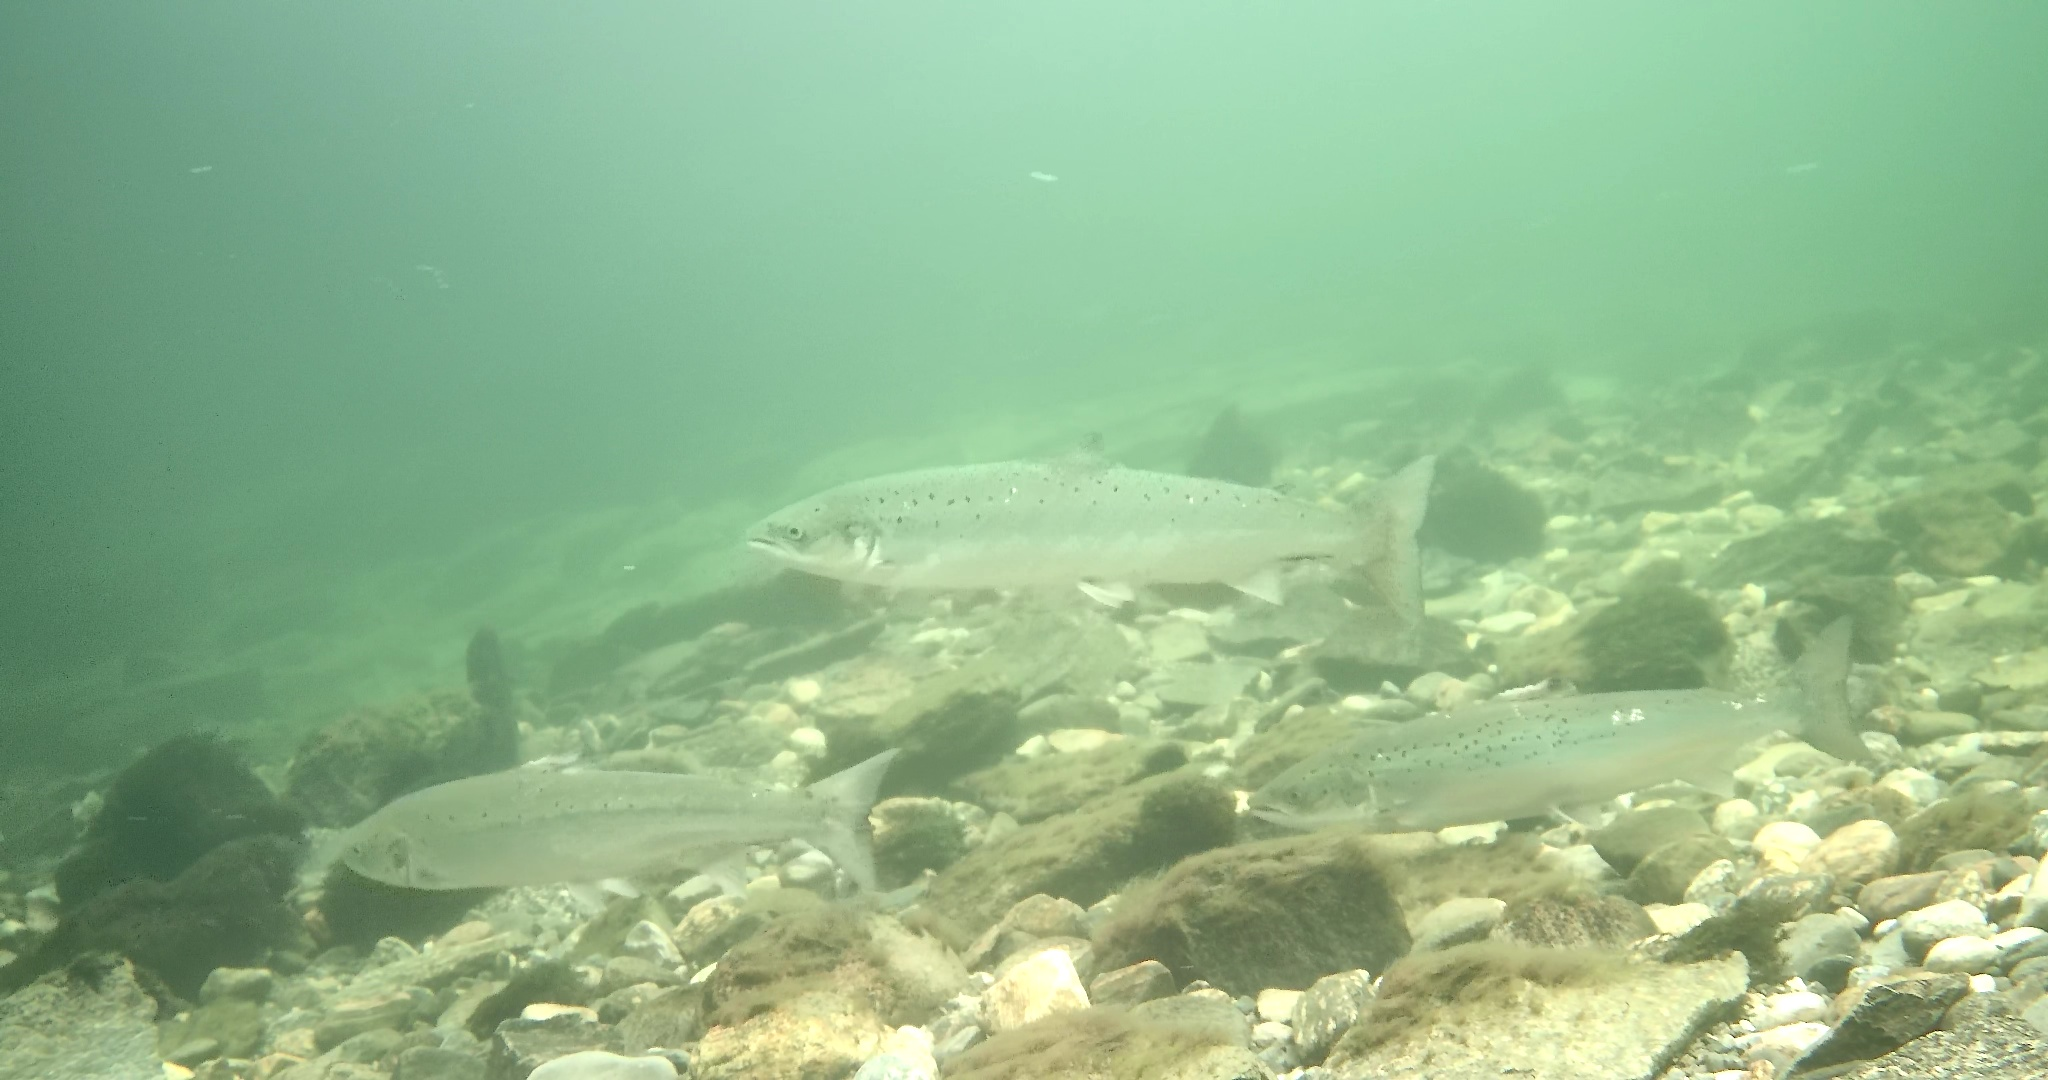salmon: (1246, 612, 1876, 836), (742, 444, 1438, 630), (339, 741, 903, 893)
